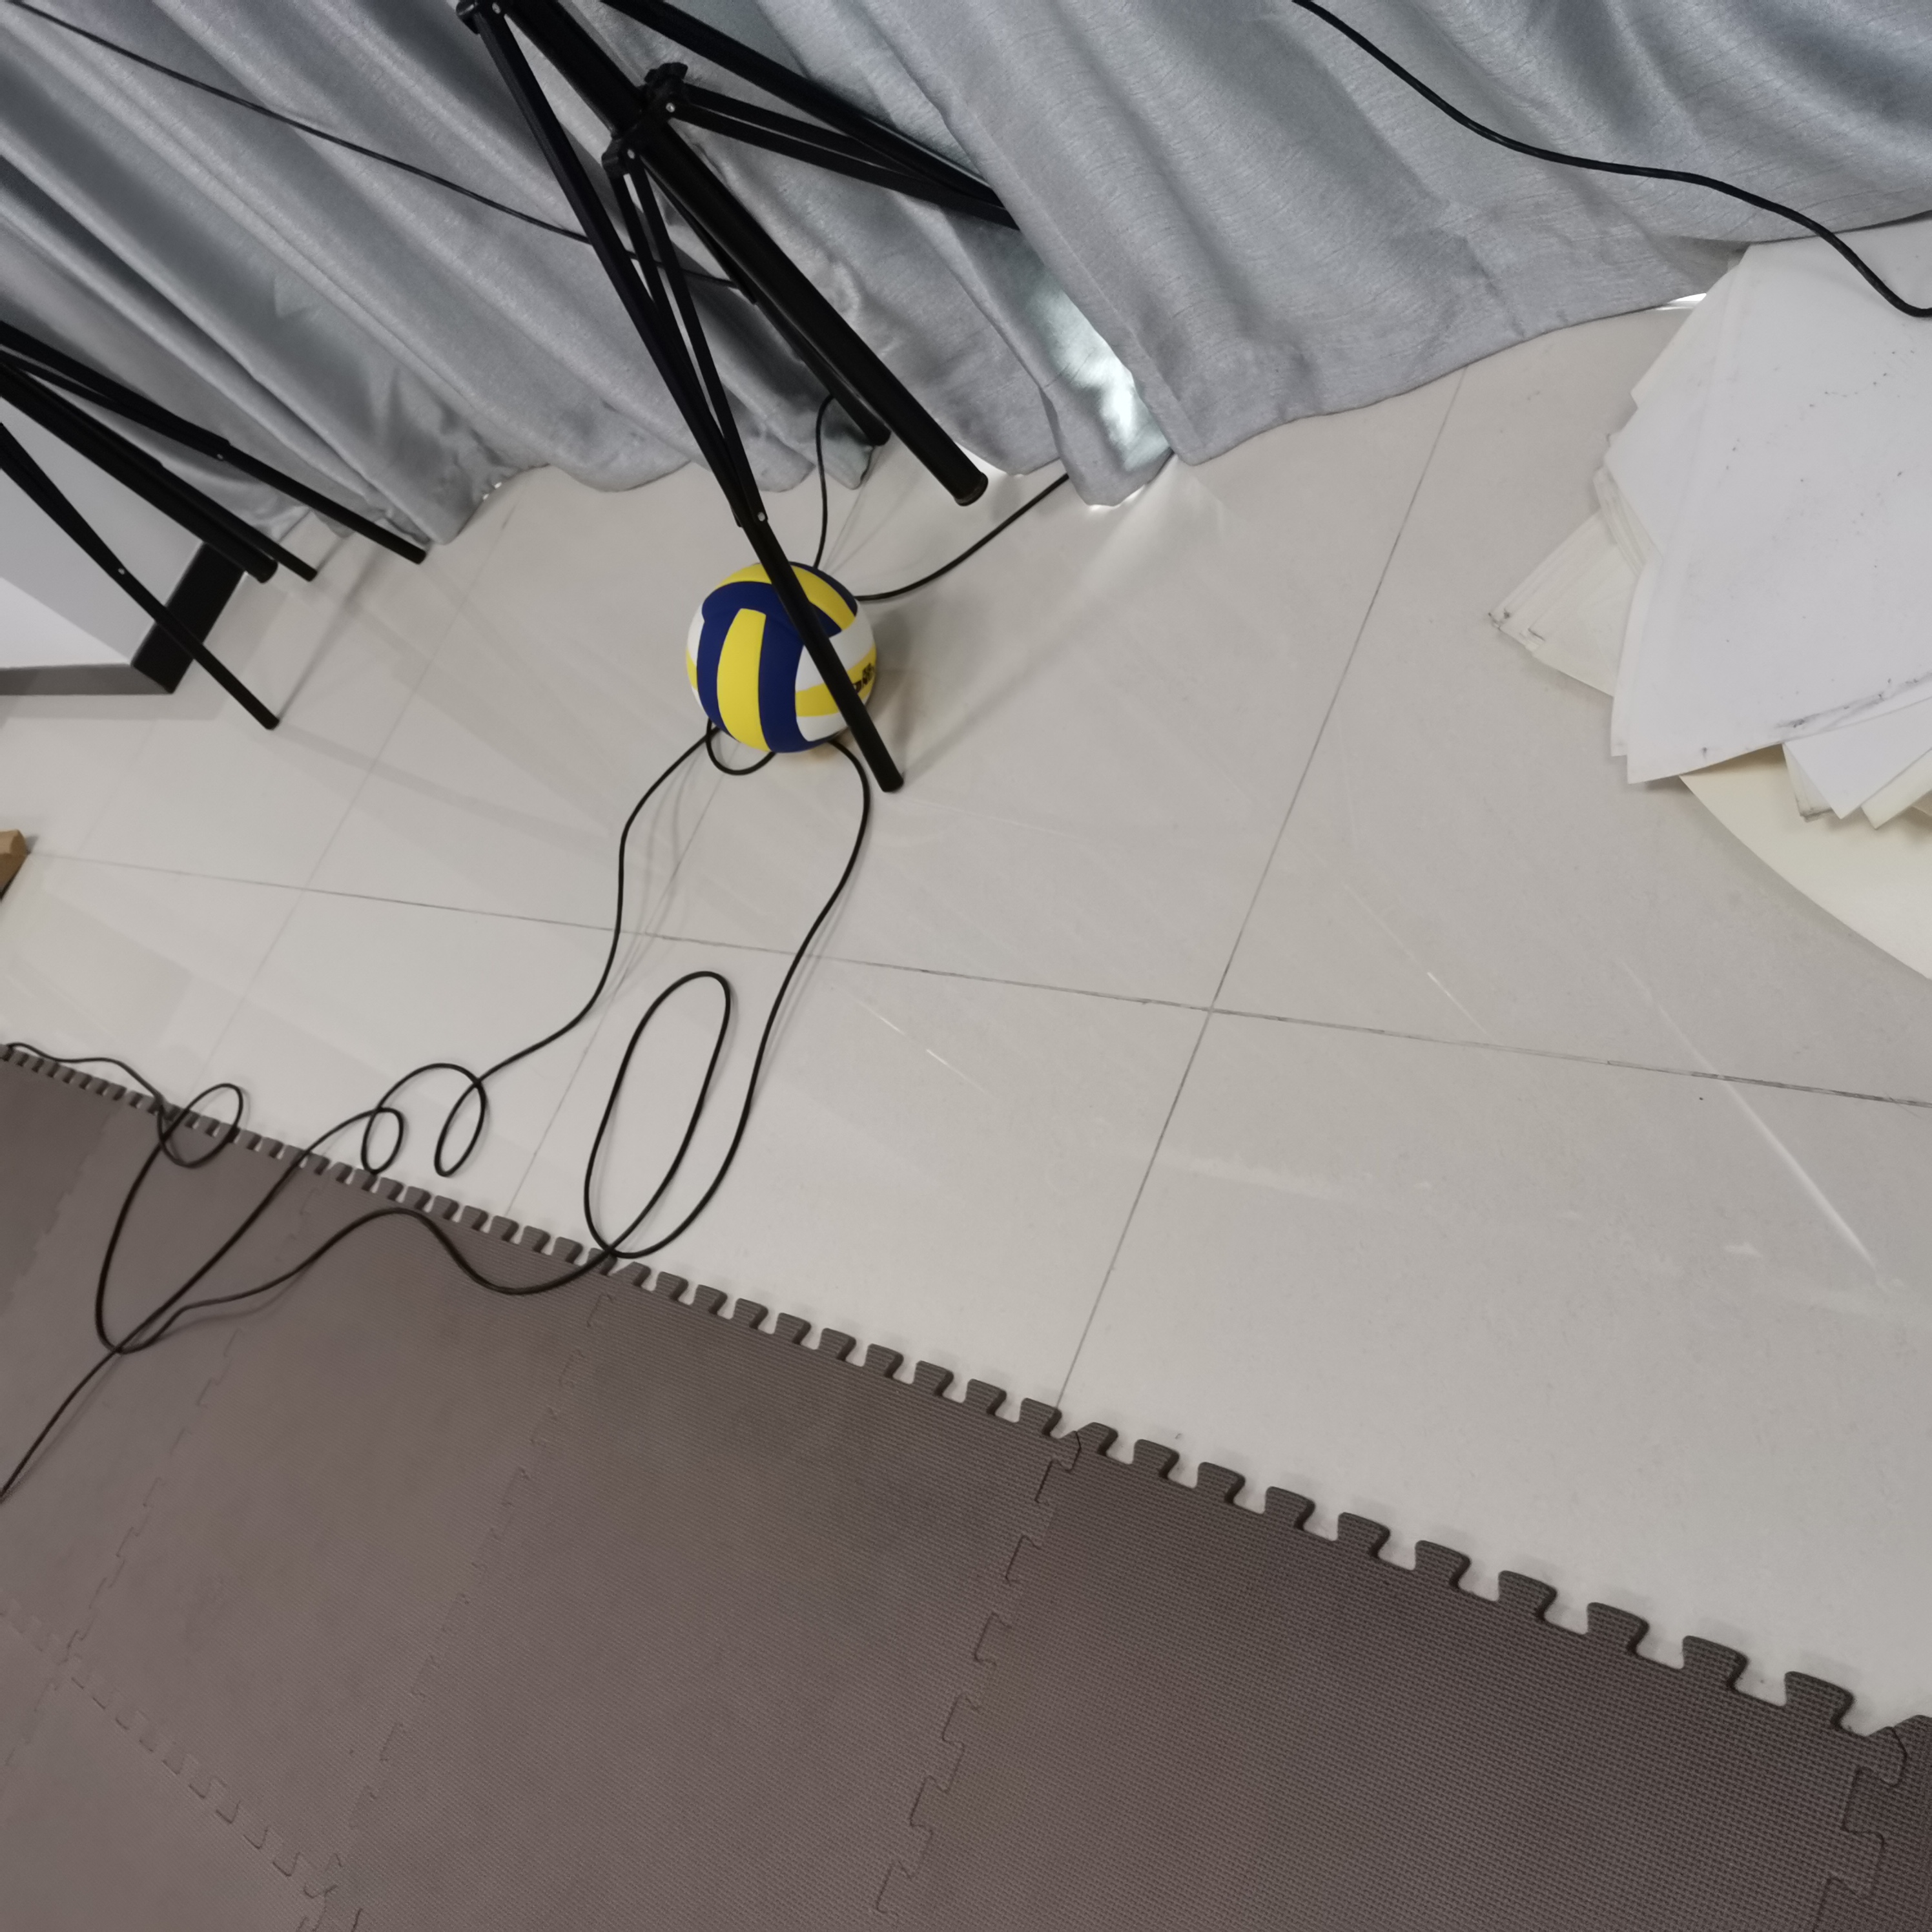volleyball: (690, 571, 879, 747)
